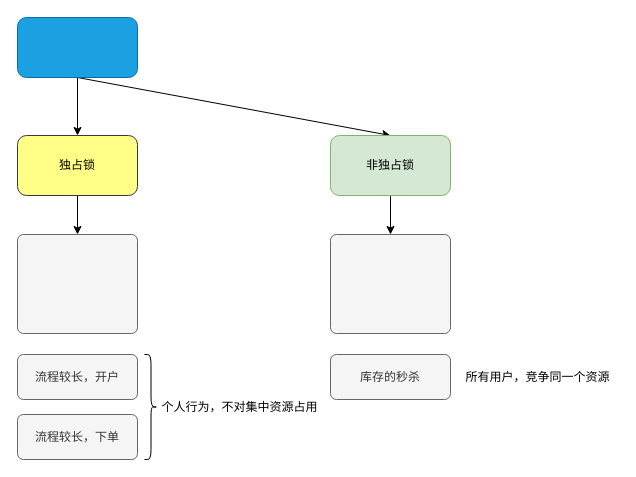
This 636x477 diagram has some shape labels left out. Here are the shapes that lost their labels. From the top down, the centre of each, then its label:
pixel 77 47: Redis 分布式锁
pixel 77 284: 适合： 无资源 竞争
pixel 390 284: 适合： 有资源 竞争
